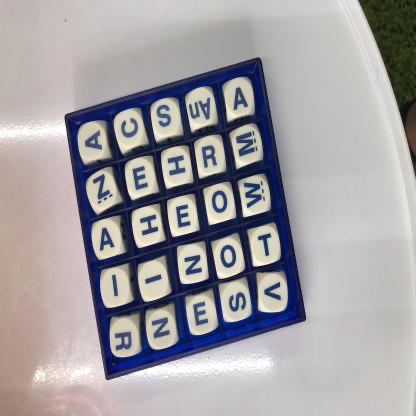a: (80, 122, 108, 161), (93, 220, 122, 257), (226, 77, 254, 115)
an: (187, 88, 216, 127)
c: (116, 110, 145, 149)
e: (186, 294, 218, 337), (169, 196, 198, 236), (126, 158, 156, 196)
h: (162, 148, 192, 186), (133, 207, 162, 246)
i: (140, 261, 170, 301), (100, 270, 130, 308)
m: (233, 127, 263, 164)
n: (147, 310, 177, 350), (178, 244, 208, 283)
o: (214, 237, 245, 277), (206, 185, 234, 223)
r: (110, 318, 140, 359), (197, 136, 226, 174)
s: (222, 283, 252, 323), (152, 99, 182, 137)
t: (251, 226, 280, 265)
v: (258, 273, 289, 313)
w: (242, 176, 271, 216)
z: (87, 172, 117, 209)
